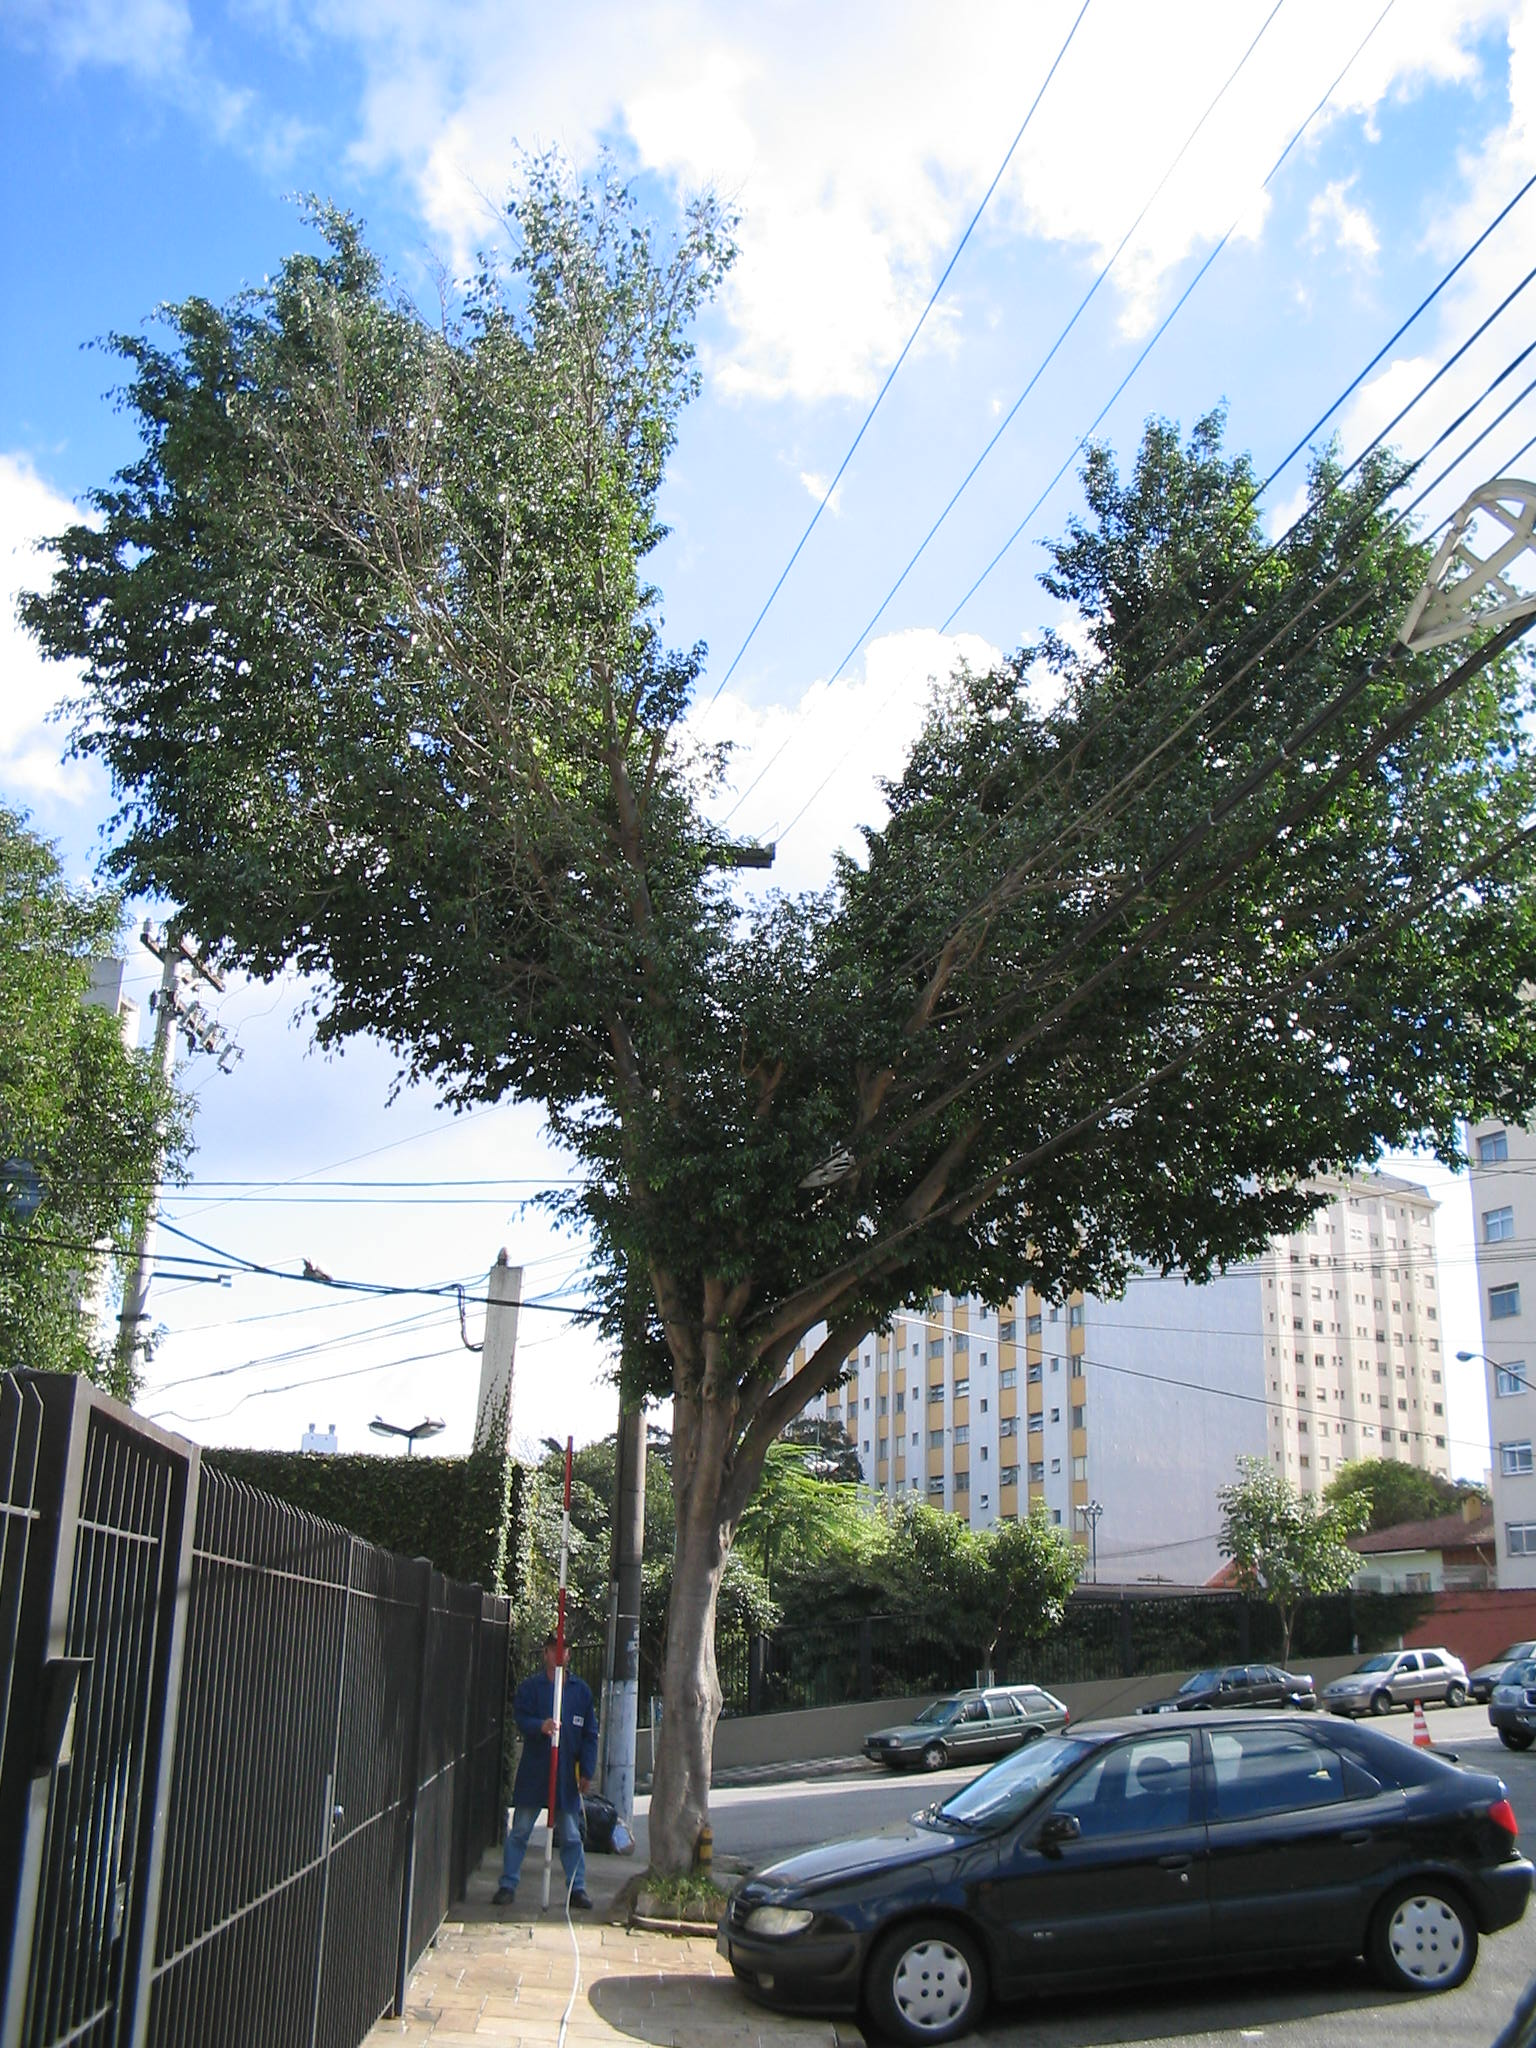crown: (35, 142, 1530, 1413)
stem: (629, 1517, 774, 1916)
stick: (511, 1434, 597, 1919)
tree: (24, 140, 1536, 1925)
